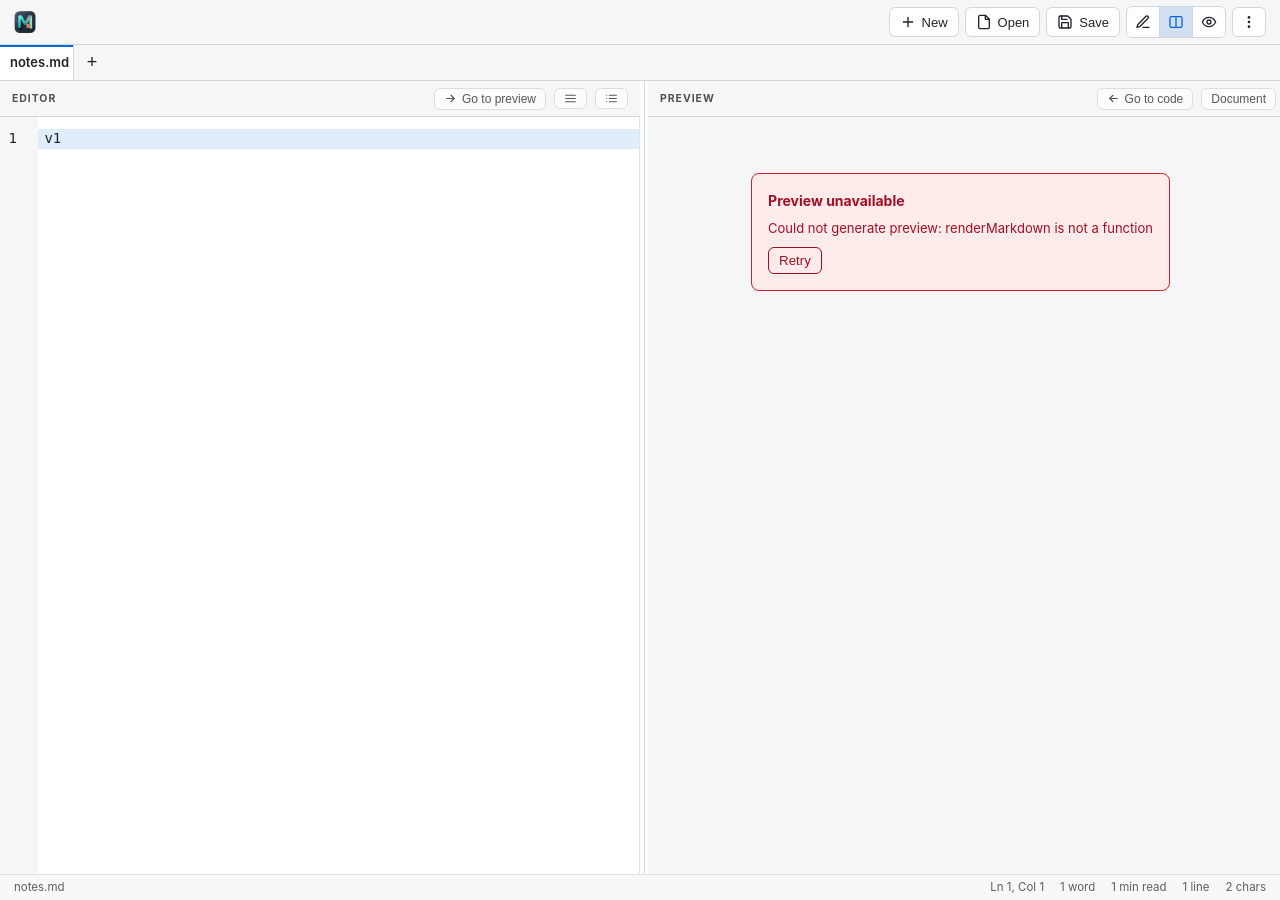
Test case: external file changes › does not reload what a reload from disk has just taken
Expected: the element with class "cm-editor" is shown, left=0, top=117, right=639, bottom=874
Click the button named "more options" at x=1249, y=22, box left=1232, top=7, right=1266, bottom=37
Wait 50 ms
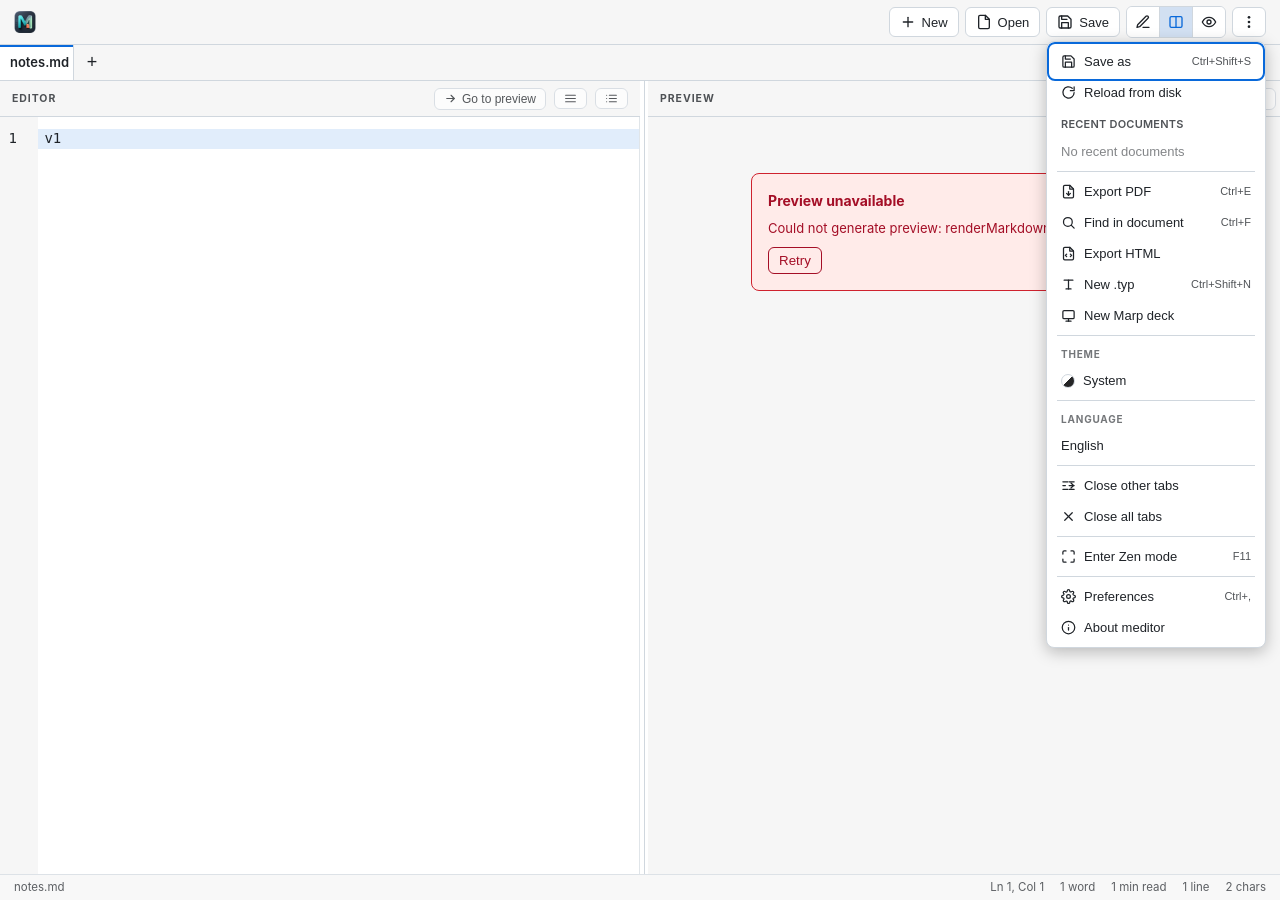
Click the menu item "Reload from disk" at x=1156, y=92, box left=1051, top=77, right=1261, bottom=108
Wait 200 ms
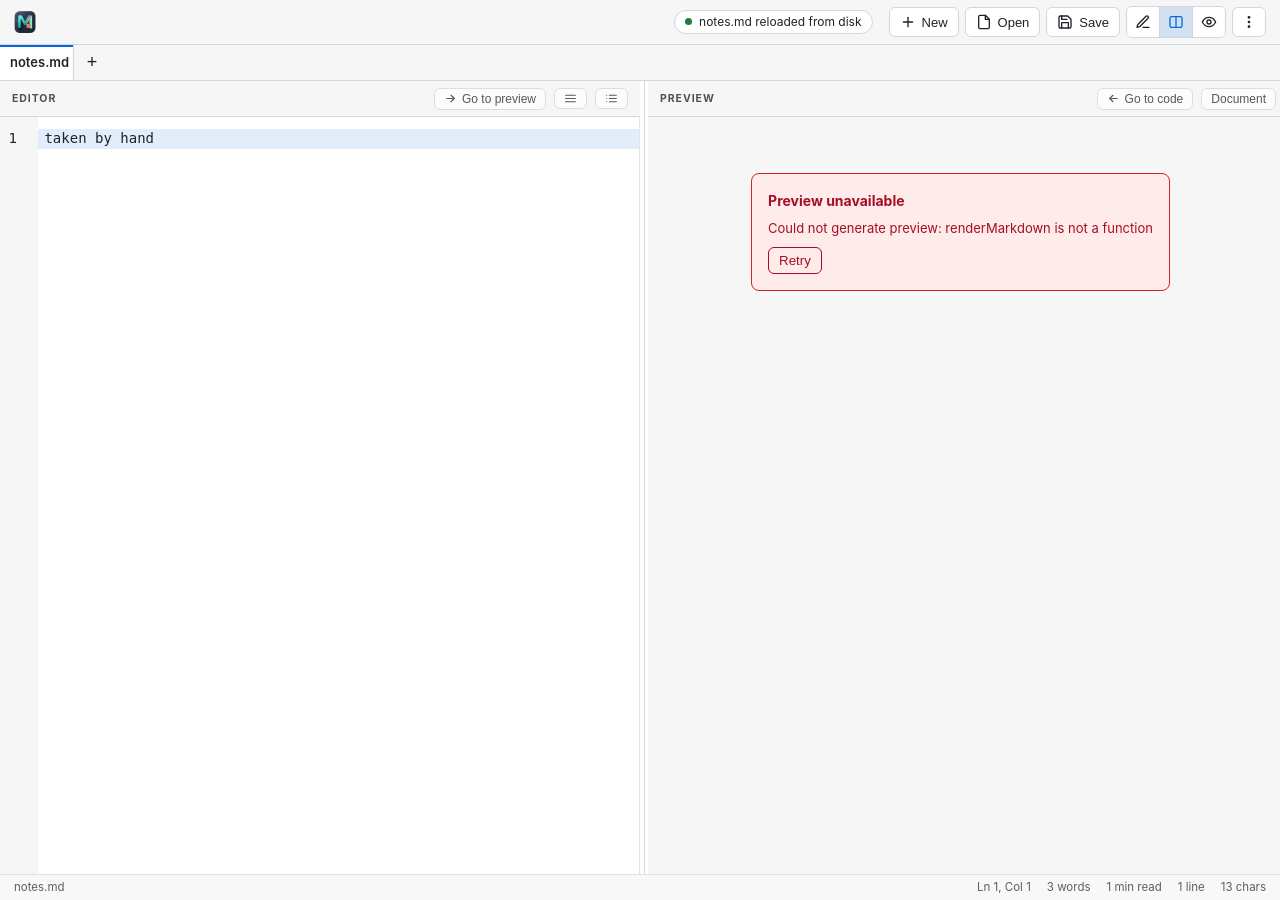
Now the text box labelled "taken by hand" is shown, box left=38, top=129, right=639, bottom=149
